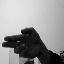h: (1, 26, 43, 59)
